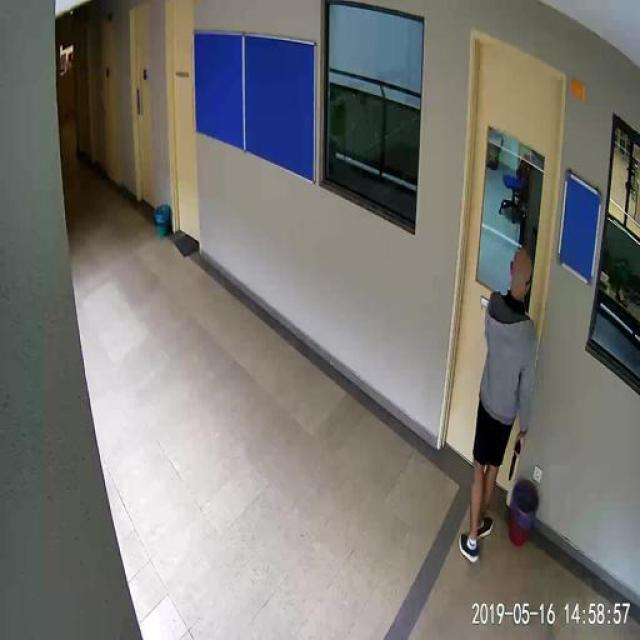Gun: (501, 431, 531, 488)
